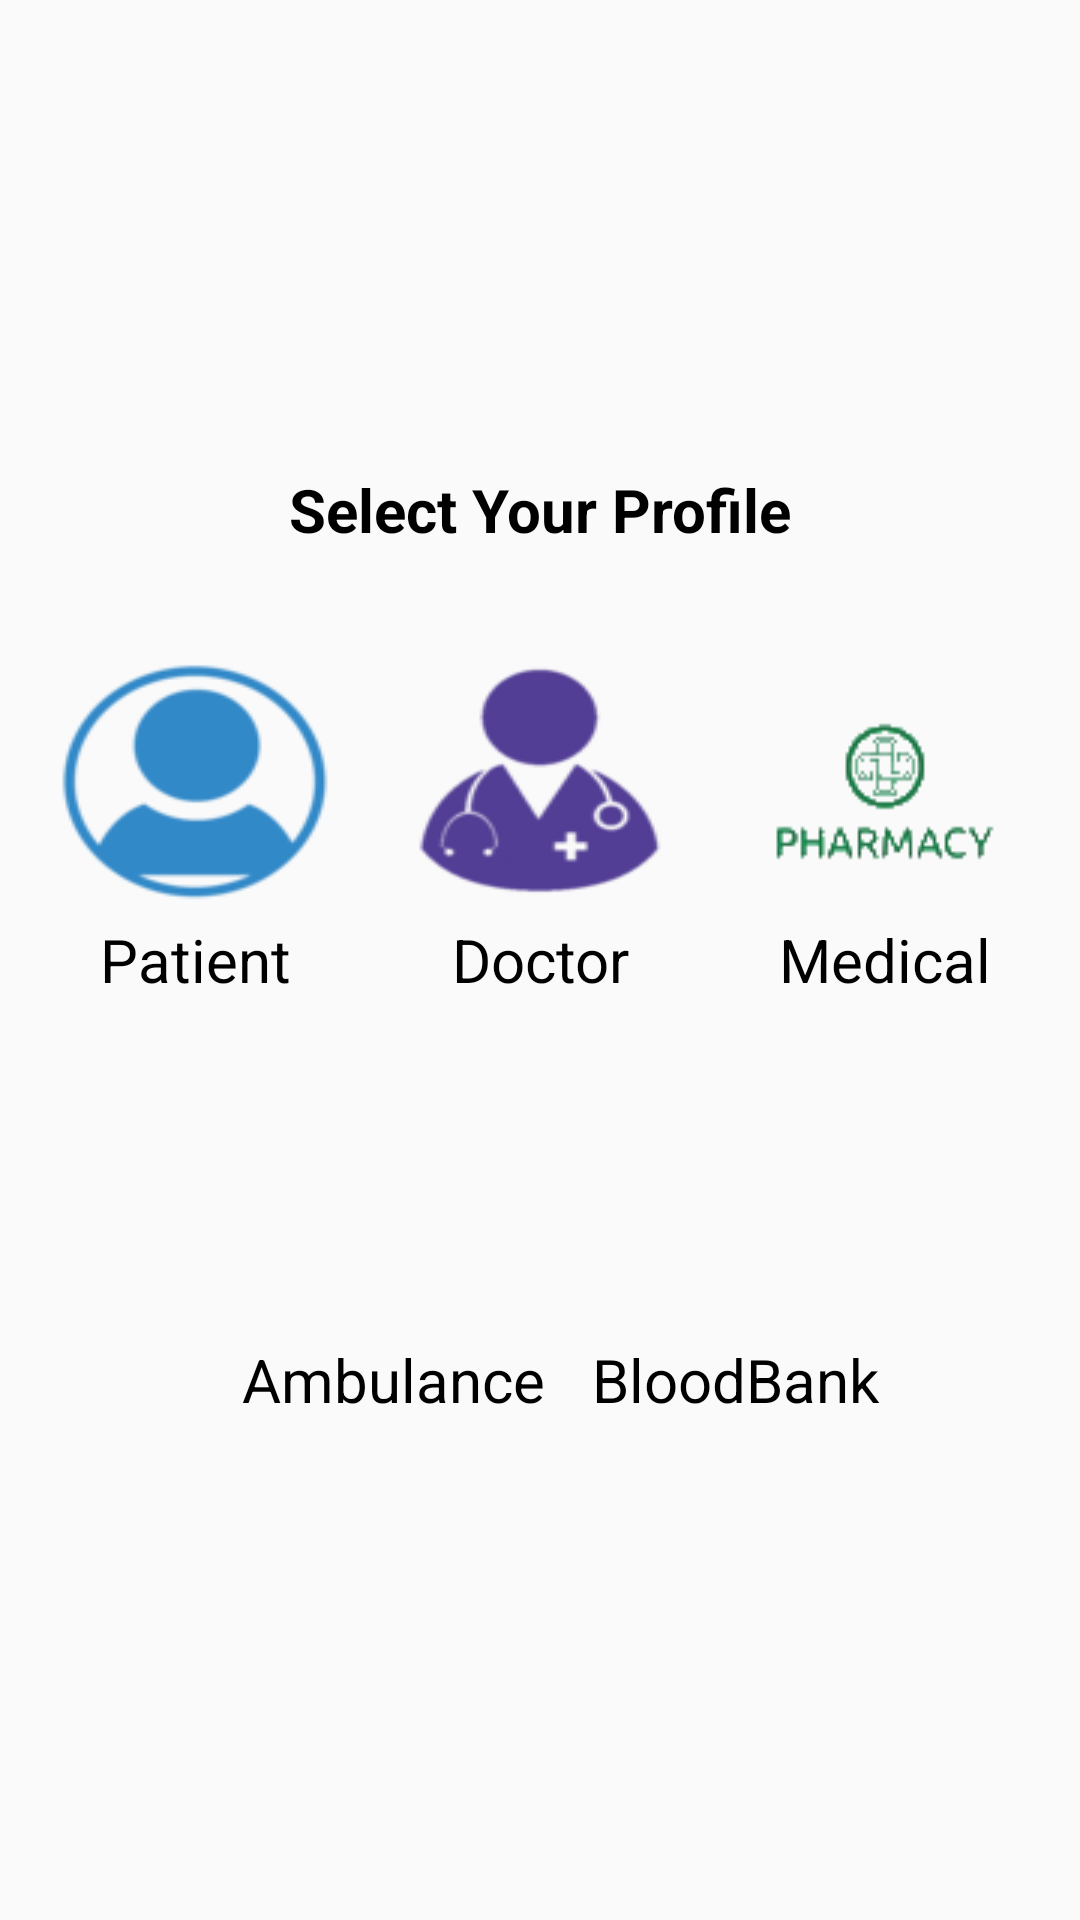

Point at icon controls on the screen. Image size 1080×1920, points as point (x, y).
usernew: point (195, 782)
